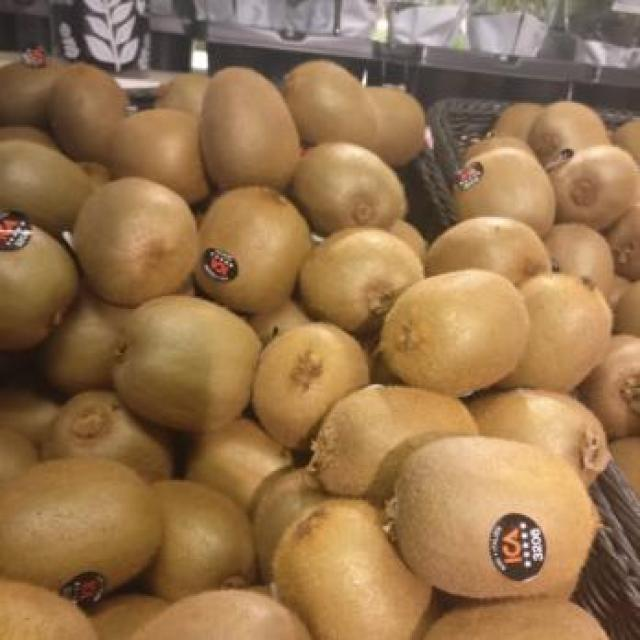kiwi: (398, 438, 599, 598), (0, 460, 161, 602), (274, 500, 431, 640), (114, 295, 261, 432), (311, 385, 478, 503), (381, 269, 529, 396), (74, 178, 198, 306), (285, 60, 425, 166), (196, 186, 311, 313), (252, 324, 369, 448), (469, 389, 611, 486), (498, 274, 612, 392), (146, 480, 255, 599), (300, 228, 424, 332), (201, 69, 300, 190), (44, 392, 170, 481), (0, 211, 78, 351), (295, 144, 406, 234), (186, 419, 292, 508), (111, 109, 209, 203), (131, 590, 311, 639), (454, 149, 555, 236), (254, 469, 330, 583), (0, 140, 91, 234), (282, 60, 375, 148), (426, 219, 551, 284), (550, 145, 638, 231), (425, 599, 609, 639), (51, 65, 125, 162), (44, 298, 118, 393), (578, 335, 640, 438), (0, 579, 98, 640), (528, 101, 610, 166), (544, 224, 615, 297), (0, 61, 61, 127), (606, 204, 639, 279), (156, 74, 209, 118), (491, 102, 544, 141), (615, 280, 640, 336), (614, 118, 640, 162)
